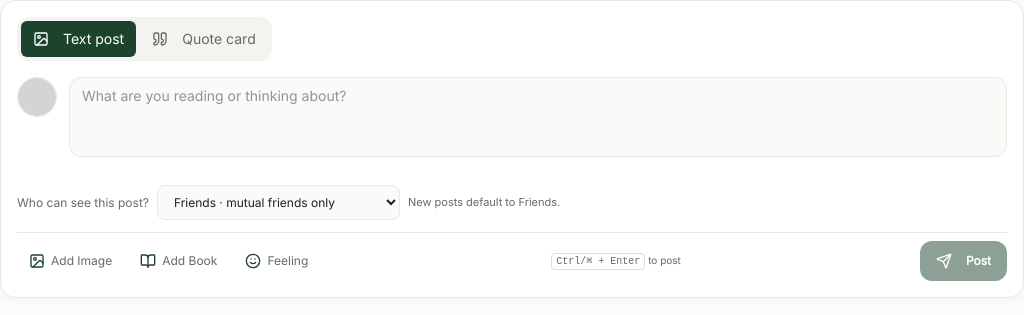
Test: Phase 6: Social Media & Reading Community Experience › FeedComposer Component › enables post button when user enters valid content and submits via Cmd+Enter
This screenshot has width=1024, height=315.
Later steps or results of the test are not shown.
Type "Finished reading Devdas today! Truly poignant." into the text box labelled "What are you reading or thinking about?".
click(538, 117); type("Finished reading Devdas today! Truly poignant.")  # box [69,77,1007,157]
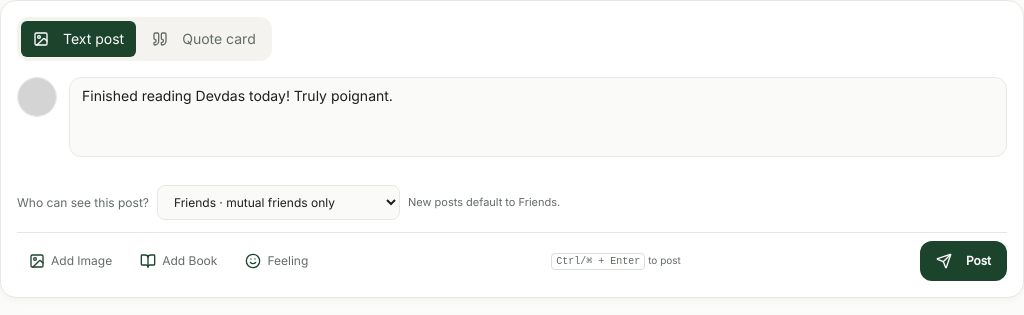
Now the button "Post" is enabled, box [920,241,1007,281]
